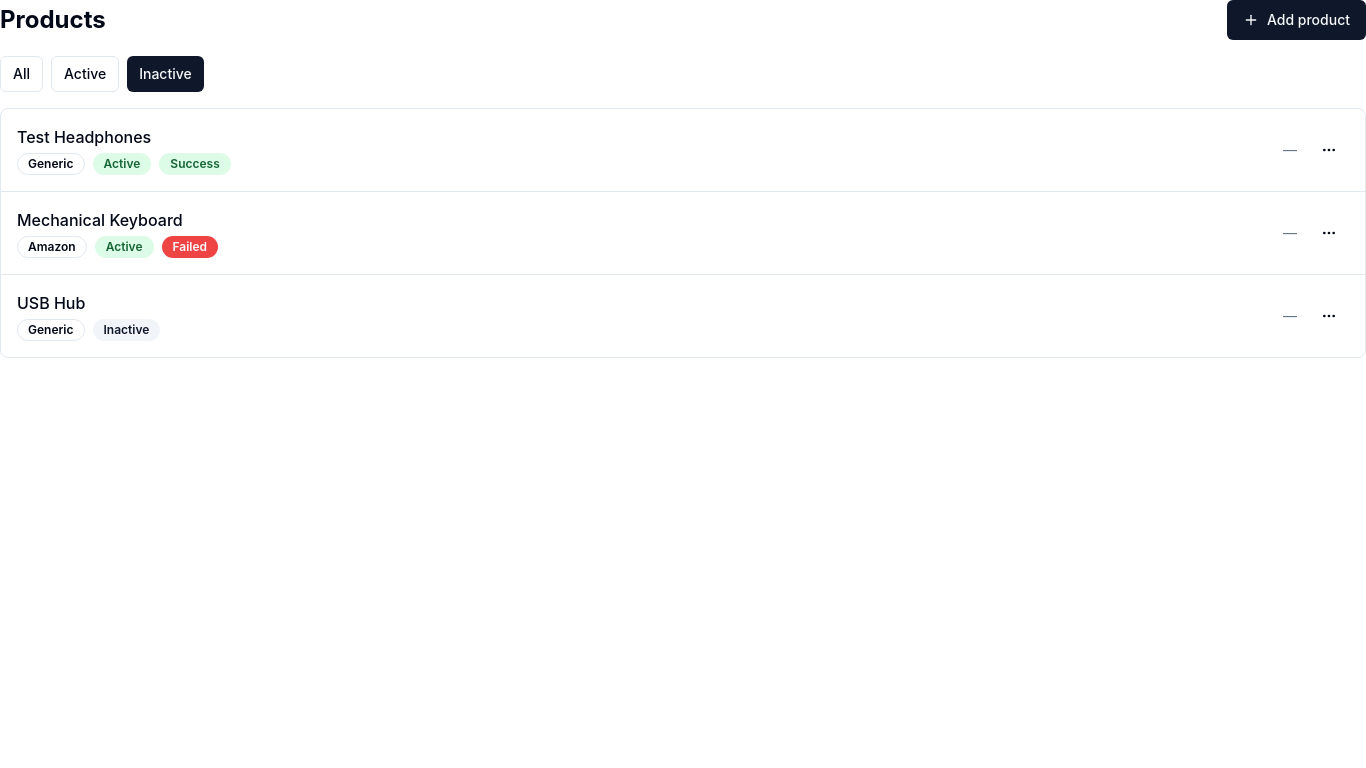
Test case: Dashboard › opens edit dialog from dropdown
Expected: the link "Test Headphones" is shown, [17, 127, 151, 147]
Click the button without text in the row of "Success".
click(1329, 150)  # box [1309, 130, 1349, 170]
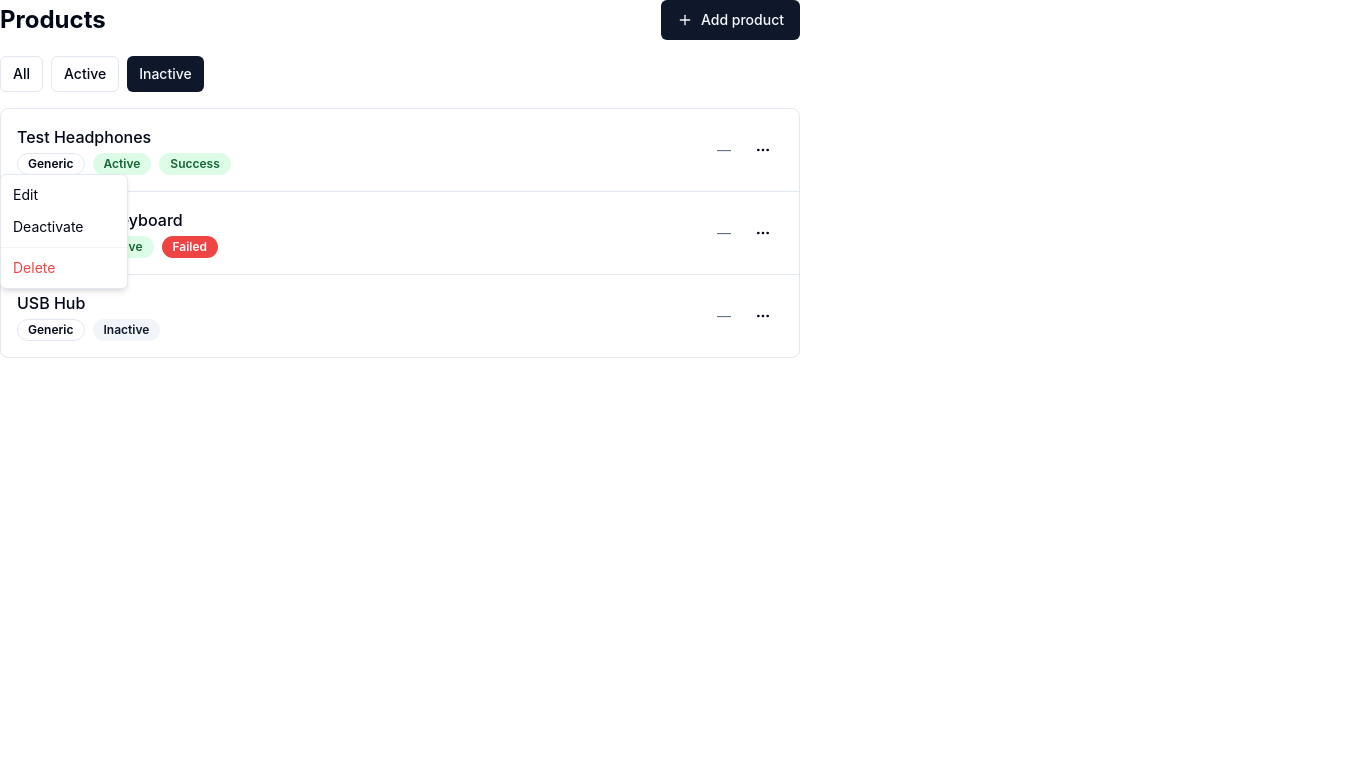
Click the menu item "Edit".
click(26, 194)  # box [13, 186, 38, 203]
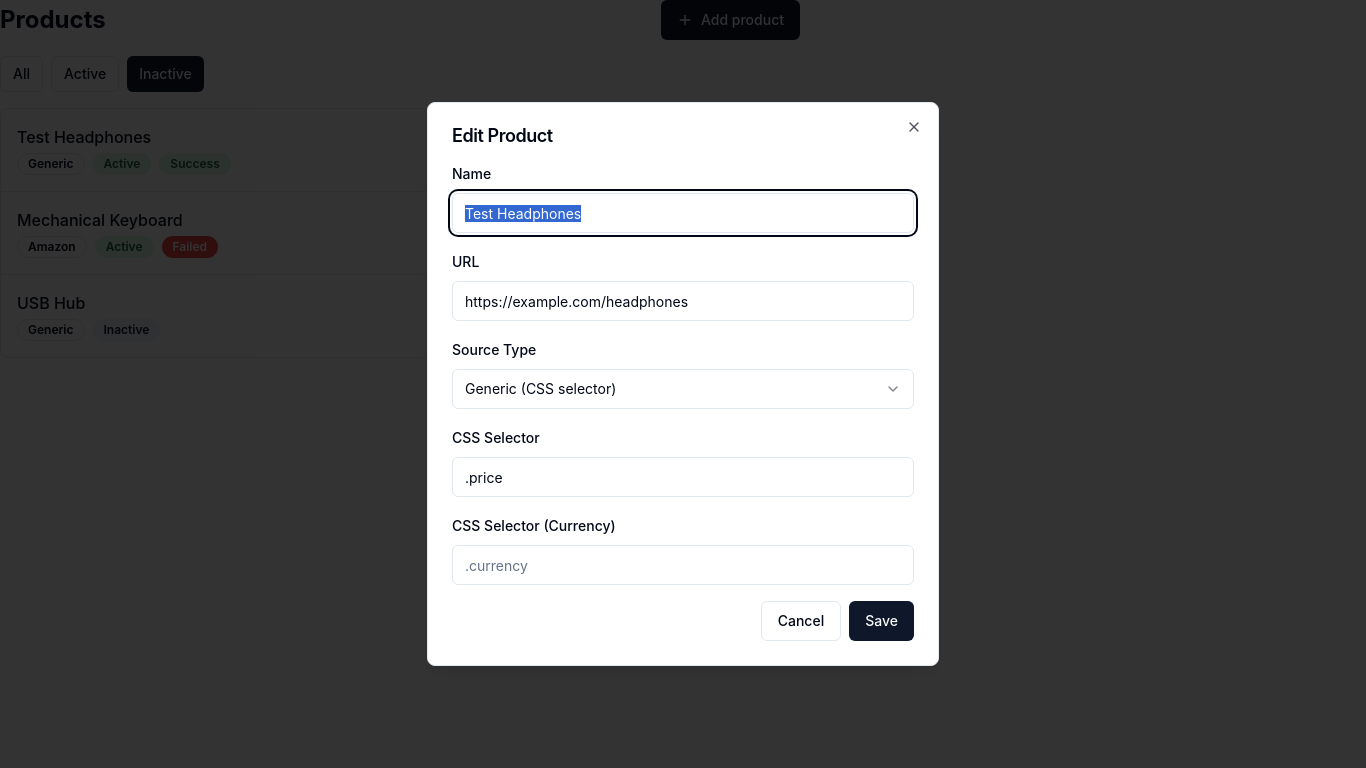
Expected: the dialog is shown, [427, 102, 939, 666]
